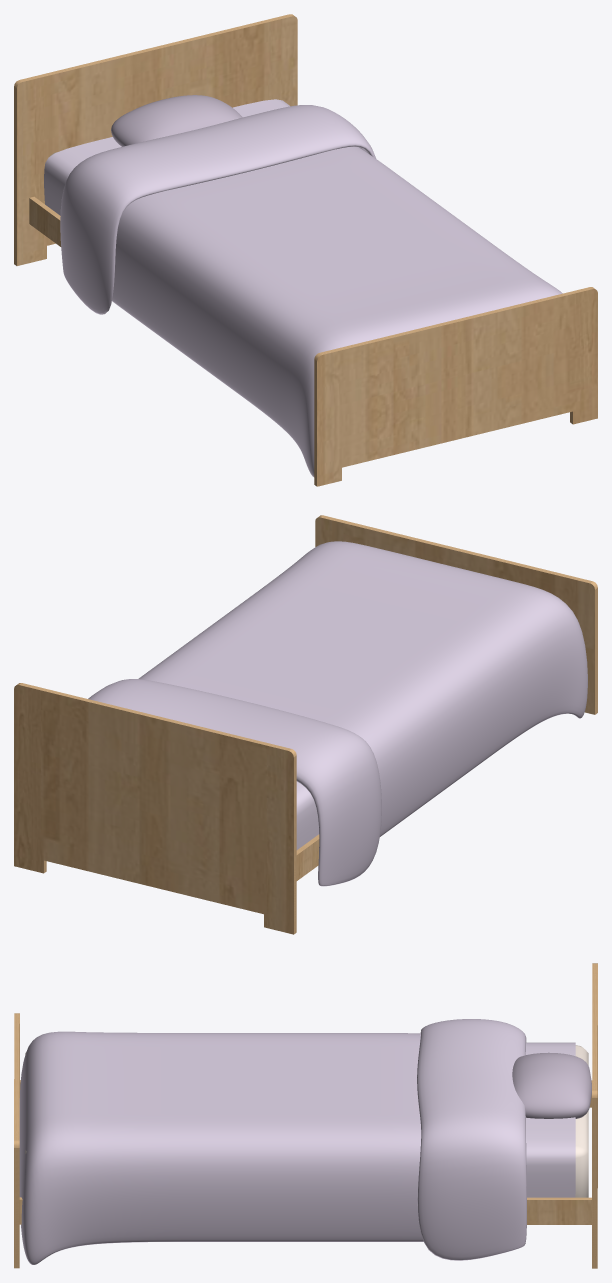
Rendered from bed_single.glb.
3 views of the same model, one above another, from view 1: azimuth 30°, elevation 25°; view 2: azimuth 150°, elevation 25°; view 3: azimuth 270°, elevation 25° (orthographic). The views are drawn at different scales.
Parts seen in each view (by area): view 1: Plane.003_Plane.004, Cube_Cube.001, Cube.010_Cube.011, Plane.004_Plane.005, Cube.001_Cube.000; view 2: Plane.003_Plane.004, Cube_Cube.001, Plane.004_Plane.005, Cube.001_Cube.000; view 3: Plane.003_Plane.004, Cube.010_Cube.011, Plane.004_Plane.005, Cube_Cube.001, Cube.001_Cube.000, Cube.007_Cube.004.
Part boxes in pixels (box(x1,y1,x2,y2)): Plane.003_Plane.004: box(60, 105, 562, 477); Cube_Cube.001: box(14, 14, 597, 486); Cube.010_Cube.011: box(111, 95, 242, 146); Plane.004_Plane.005: box(44, 99, 289, 215); Cube.001_Cube.000: box(29, 196, 61, 246); Plane.003_Plane.004: box(88, 541, 587, 886); Cube_Cube.001: box(14, 515, 597, 934); Plane.004_Plane.005: box(296, 781, 318, 849); Cube.001_Cube.000: box(296, 834, 319, 880); Plane.003_Plane.004: box(19, 1019, 526, 1264); Cube.010_Cube.011: box(512, 1052, 591, 1118); Plane.004_Plane.005: box(525, 1042, 575, 1197); Cube_Cube.001: box(14, 963, 597, 1268); Cube.001_Cube.000: box(19, 1080, 592, 1224); Cube.007_Cube.004: box(25, 1045, 588, 1197).
Bounding box in the file's own units: 1.06 × 0.656 × 1.98.
5 materials, 1 textured.
